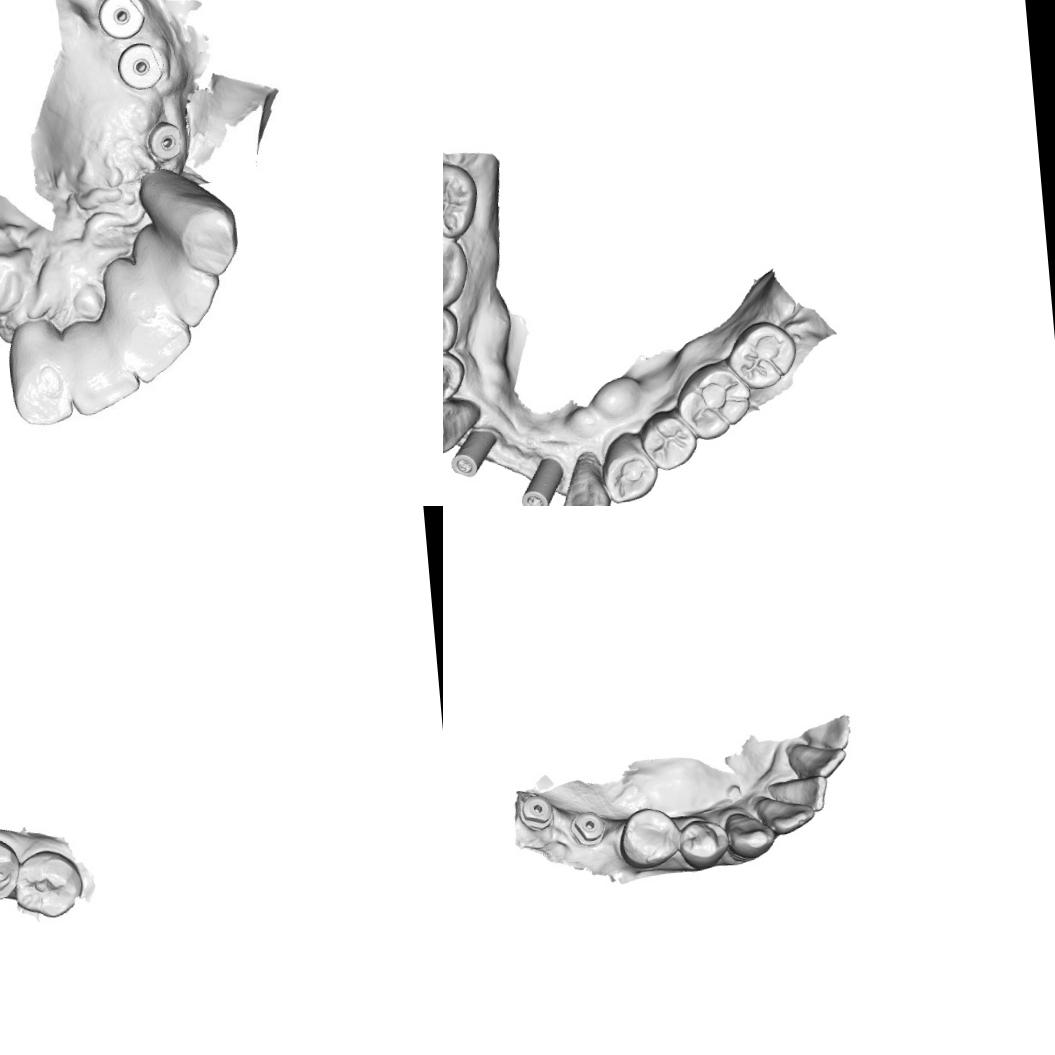canine: (142, 164, 240, 272), (2, 318, 77, 431), (556, 448, 614, 506), (722, 808, 778, 864), (443, 395, 484, 455)
implant: (443, 423, 501, 482), (515, 452, 568, 506), (120, 42, 170, 96), (144, 112, 188, 167), (100, 0, 146, 40), (515, 791, 556, 833), (566, 808, 608, 848)
incisor: (107, 253, 197, 388), (134, 218, 222, 326), (68, 317, 146, 419), (752, 792, 818, 838), (784, 738, 848, 782), (764, 774, 830, 816), (798, 711, 854, 754)
molar: (672, 358, 756, 443), (10, 844, 87, 922), (723, 318, 800, 392), (443, 158, 482, 241), (443, 227, 472, 313), (0, 832, 21, 904)
premolar: (597, 428, 662, 506), (614, 804, 682, 872), (636, 407, 700, 472), (674, 815, 732, 872), (443, 349, 469, 405), (443, 304, 461, 358)
